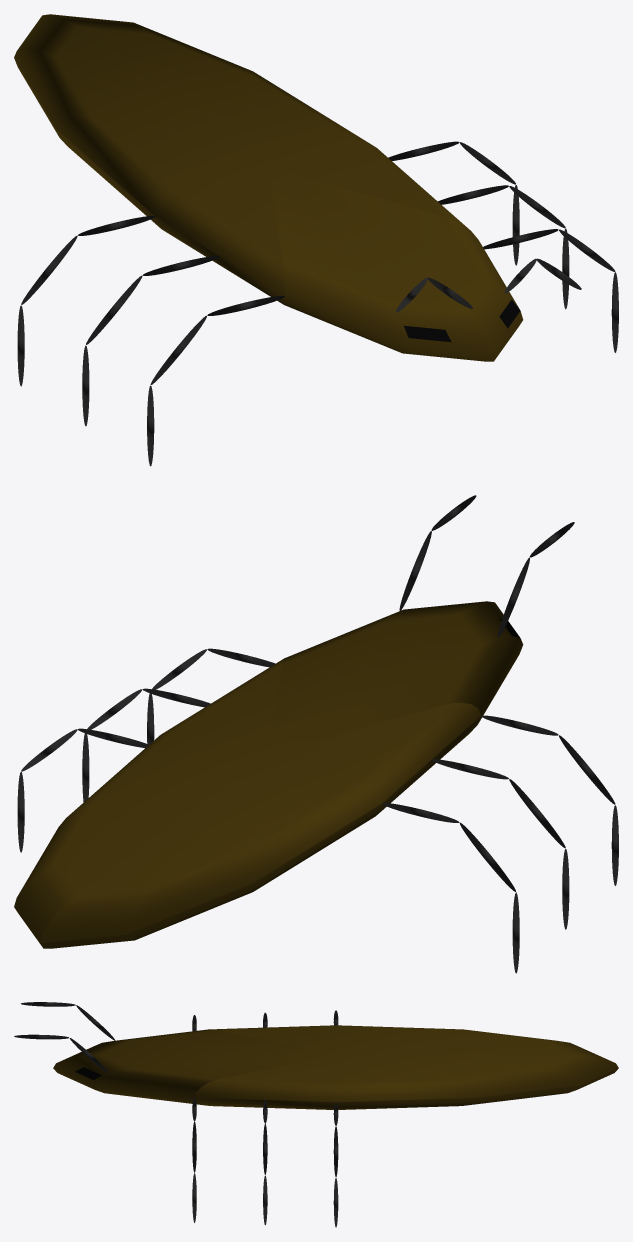
File: bugs.fbx
3 renders of one model, top to bottom at view 1: azimuth 30°, elevation 25°; view 2: azimuth 150°, elevation 25°; view 3: azimuth 270°, elevation 25°, orthographic. The views are drawn at different scales.
Visible parts, largest first — view 1: chamfer; view 2: chamfer; view 3: chamfer.
Part boxes in pixels (box(x1,y1,x2,y2)): chamfer: box(14, 14, 523, 361); chamfer: box(14, 601, 523, 948); chamfer: box(53, 1025, 618, 1109).
Bounding box in the file's own units: 32.87 × 13.73 × 55.54.
